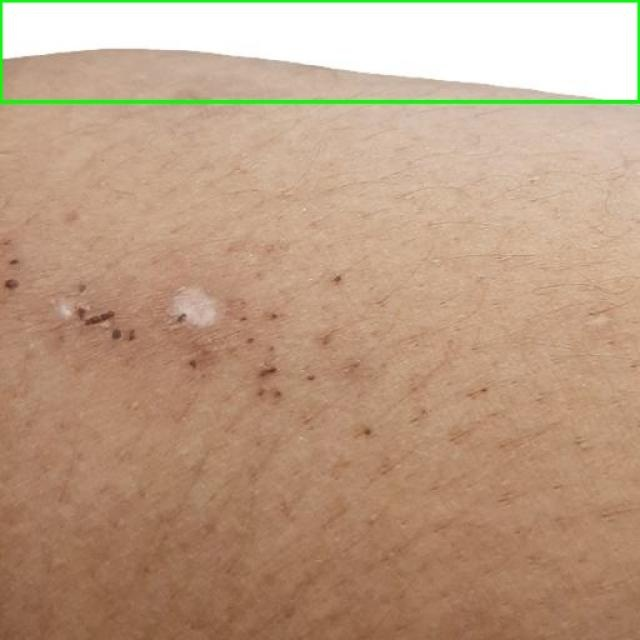Scabies: (0, 0, 639, 101)
